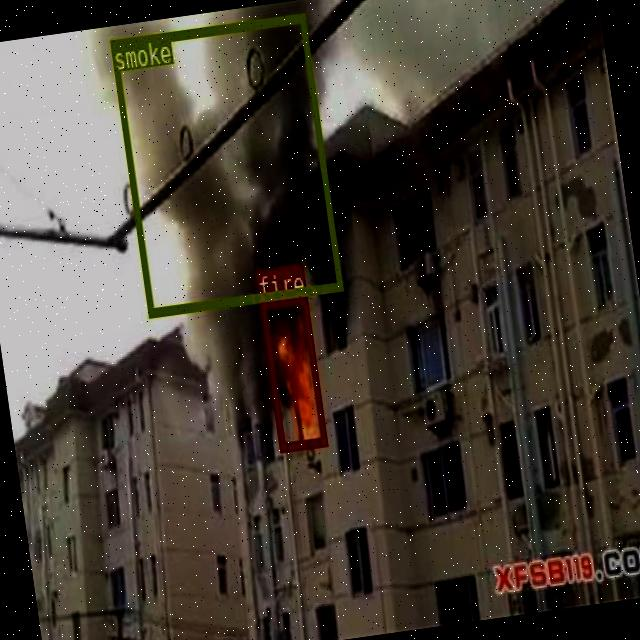fire: (258, 294, 328, 450)
smoke: (109, 11, 342, 316)
